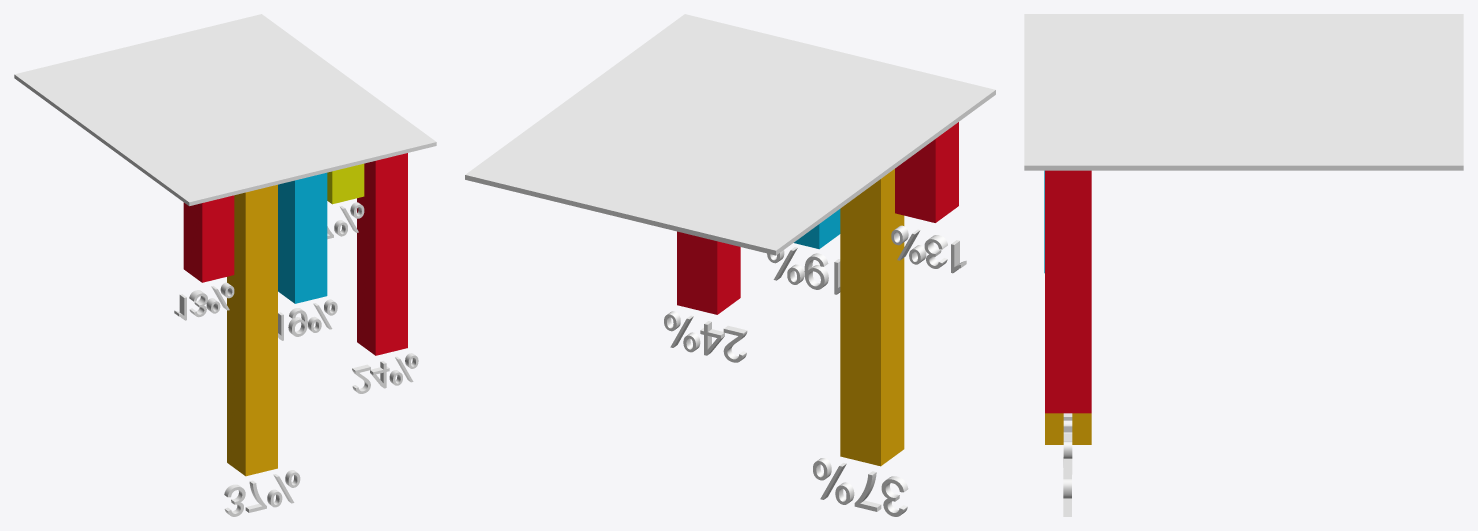
File: Chart.fbx
3 renders of one model, left to right at view 1: azimuth 30°, elevation 25°; view 2: azimuth 150°, elevation 25°; view 3: azimuth 270°, elevation 25°, orthographic. The views are drawn at different scales.
Parts seen in each view (by area): view 1: object_195; view 2: object_195; view 3: object_195.
Boxes of the visible parts, x1,y1,x2,y2 form: object_195: [14, 14, 436, 516]; object_195: [465, 14, 995, 516]; object_195: [1024, 14, 1463, 516].
Bounding box in the file's own units: 2276 × 3000 × 2786.
